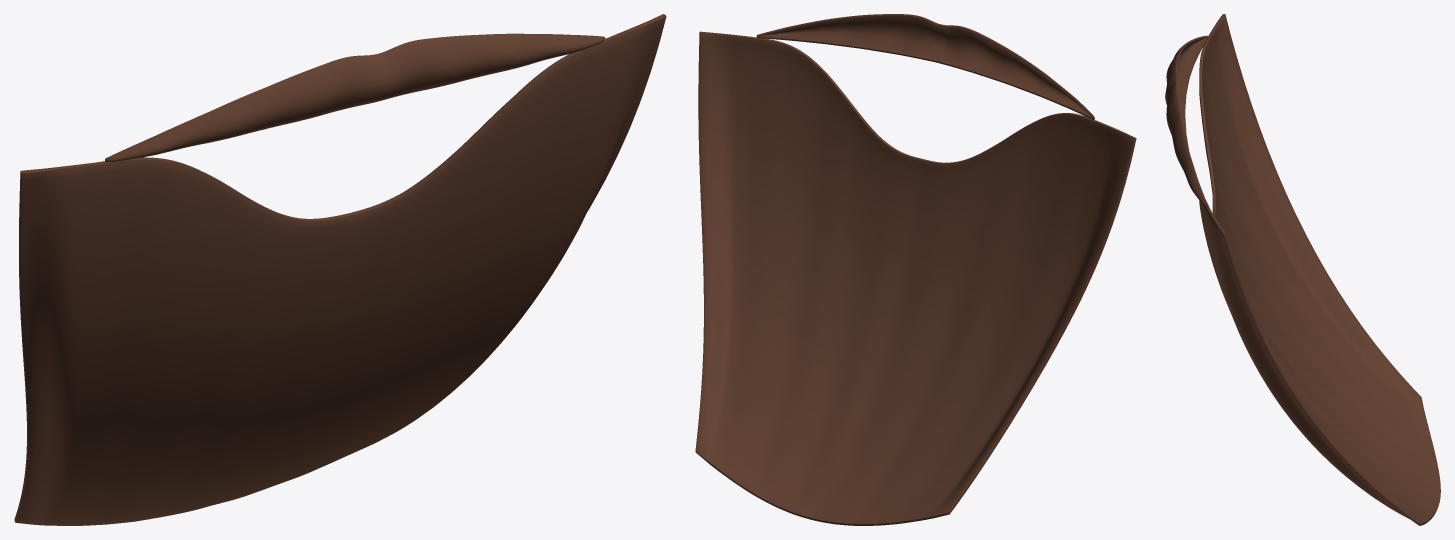
Rendered from Masculine-groom-goatee.glb.
3 renders of one model, left to right at view 1: azimuth 30°, elevation 25°; view 2: azimuth 150°, elevation 25°; view 3: azimuth 270°, elevation 25°, orthographic. The views are drawn at different scales.
Visible parts, largest first — view 1: Groom / goatee body183, Groom / shared mustache183; view 2: Groom / goatee body183, Groom / shared mustache183; view 3: Groom / goatee body183, Groom / shared mustache183.
Part boxes in pixels (bbox=[...]): Groom / goatee body183: bbox=[14, 14, 666, 525]; Groom / shared mustache183: bbox=[105, 33, 604, 162]; Groom / goatee body183: bbox=[695, 31, 1136, 525]; Groom / shared mustache183: bbox=[756, 14, 1094, 119]; Groom / goatee body183: bbox=[1199, 14, 1440, 525]; Groom / shared mustache183: bbox=[1165, 35, 1208, 207].
Size of the model in its own units: 0.3371 by 0.299 by 0.1791.
